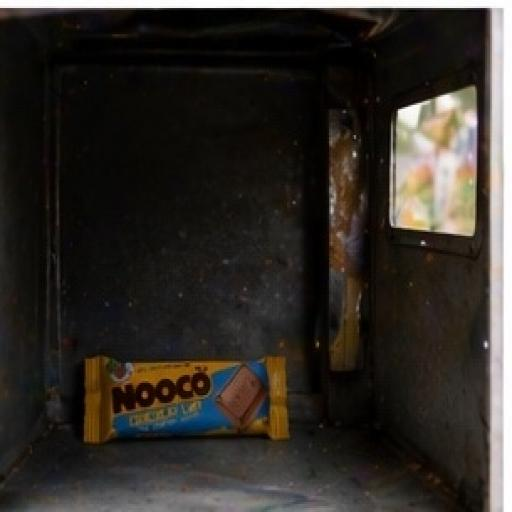nooco: (70, 331, 316, 478)
